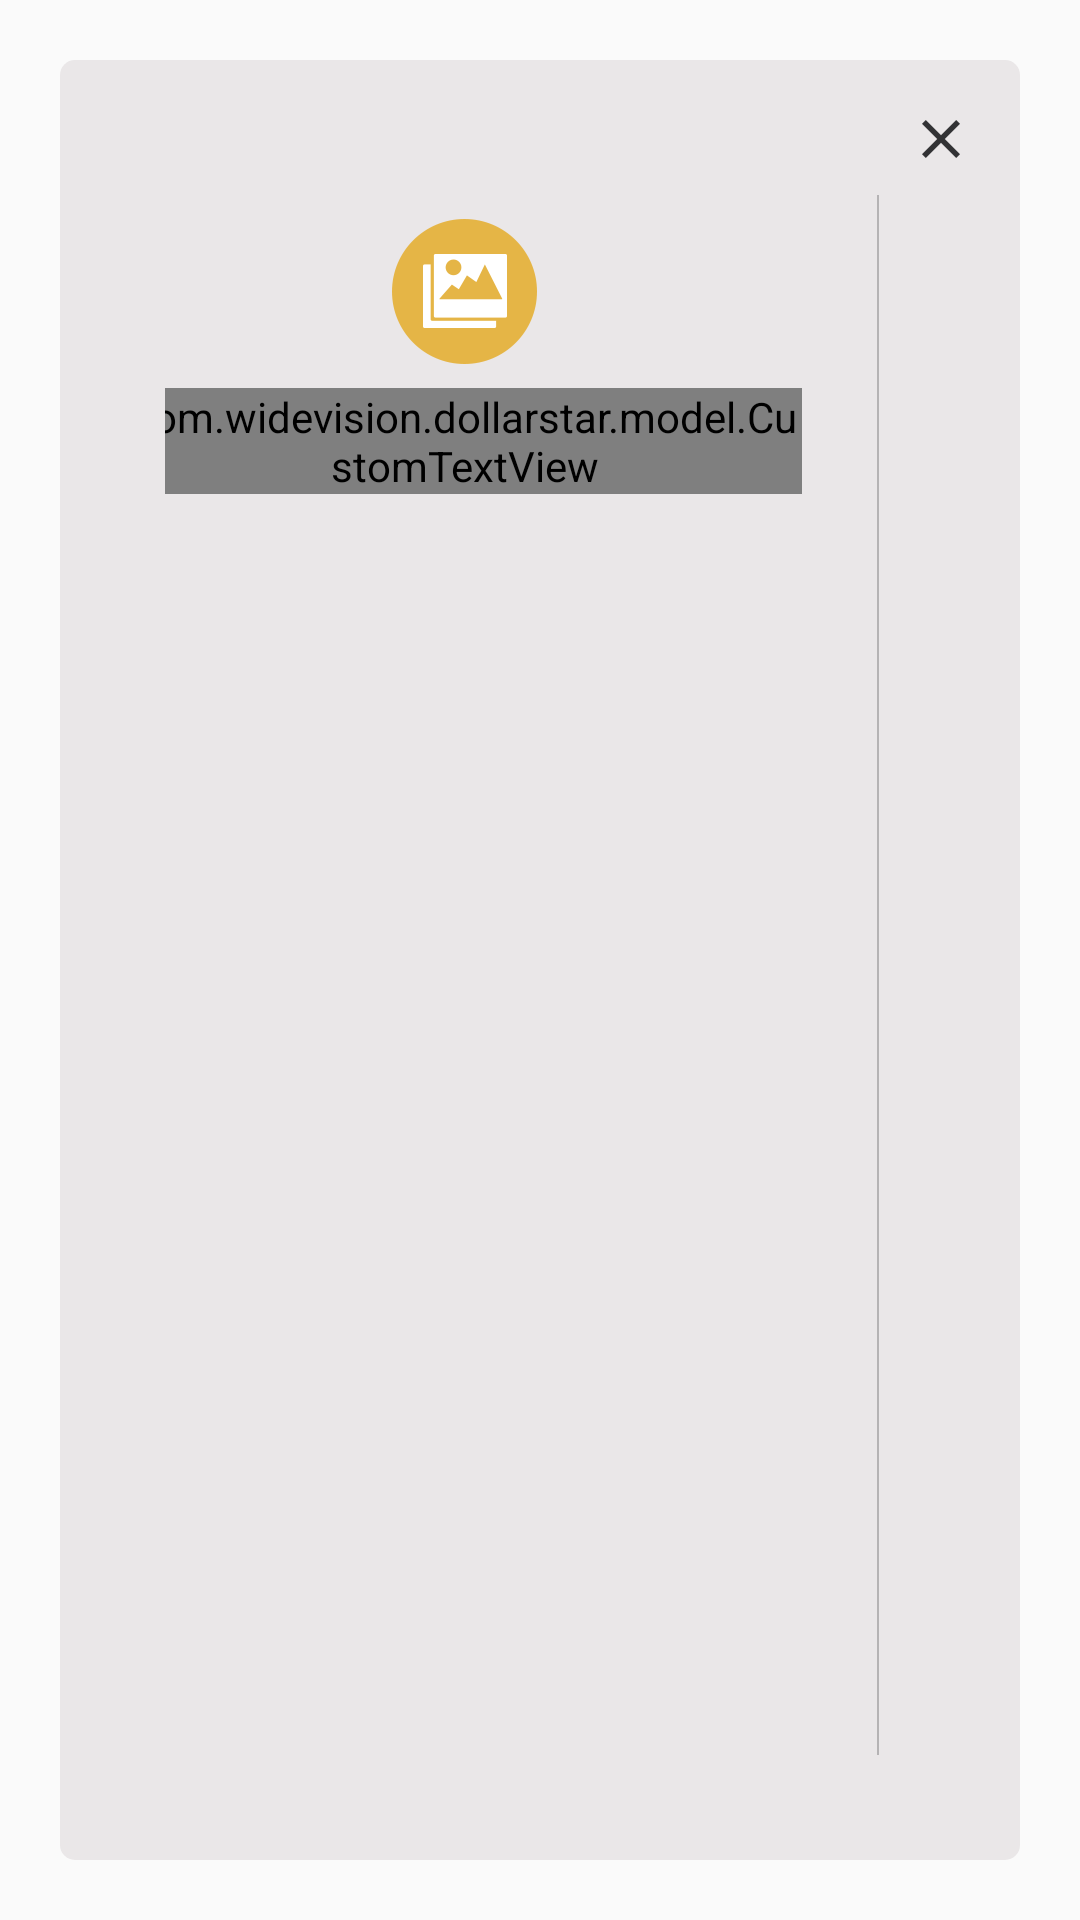

Screen size 1080px×1920px. Icon name, then its center in pixels as point (x, y):
close: point (941, 139)
images popup: point (464, 291)
